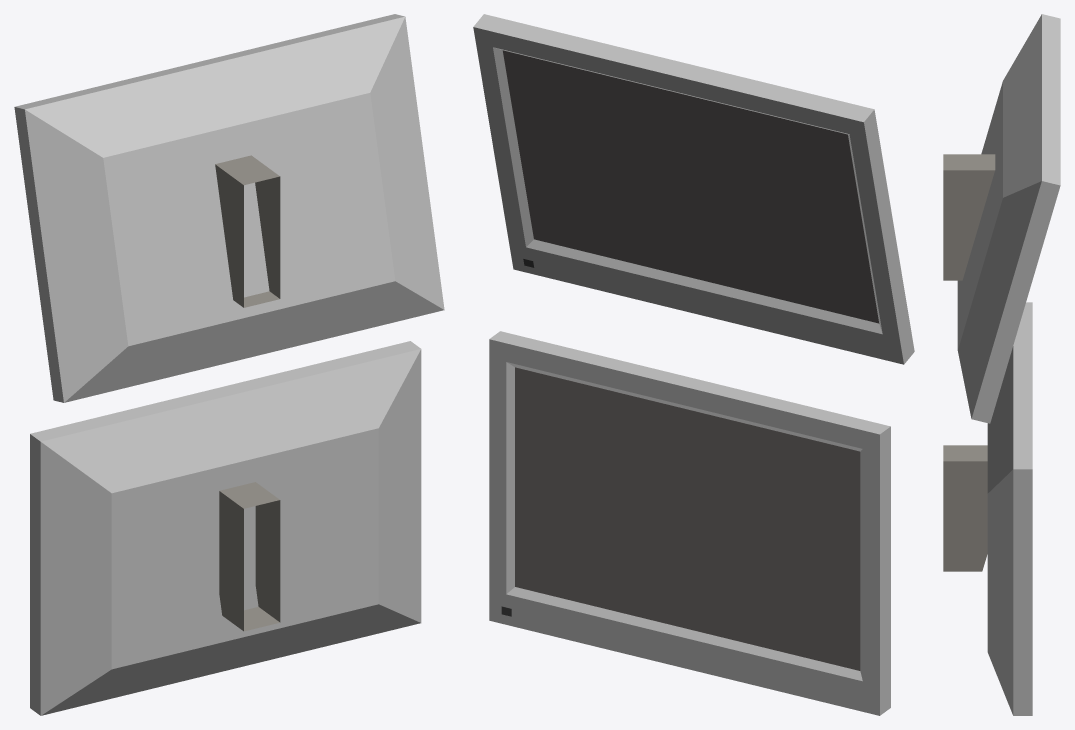
3 views of the same model, side by side, from view 1: azimuth 30°, elevation 25°; view 2: azimuth 150°, elevation 25°; view 3: azimuth 270°, elevation 25° (orthographic). The views are drawn at different scales.
Parts seen in each view (by area): view 1: SM_TV_01; view 2: SM_TV_01; view 3: SM_TV_01.
Boxes of the visible parts, <box> form: SM_TV_01: <box>14,14,444,715</box>; SM_TV_01: <box>473,14,914,715</box>; SM_TV_01: <box>943,14,1060,715</box>.
Bounding box in the file's own units: 129 × 38.28 × 193.
